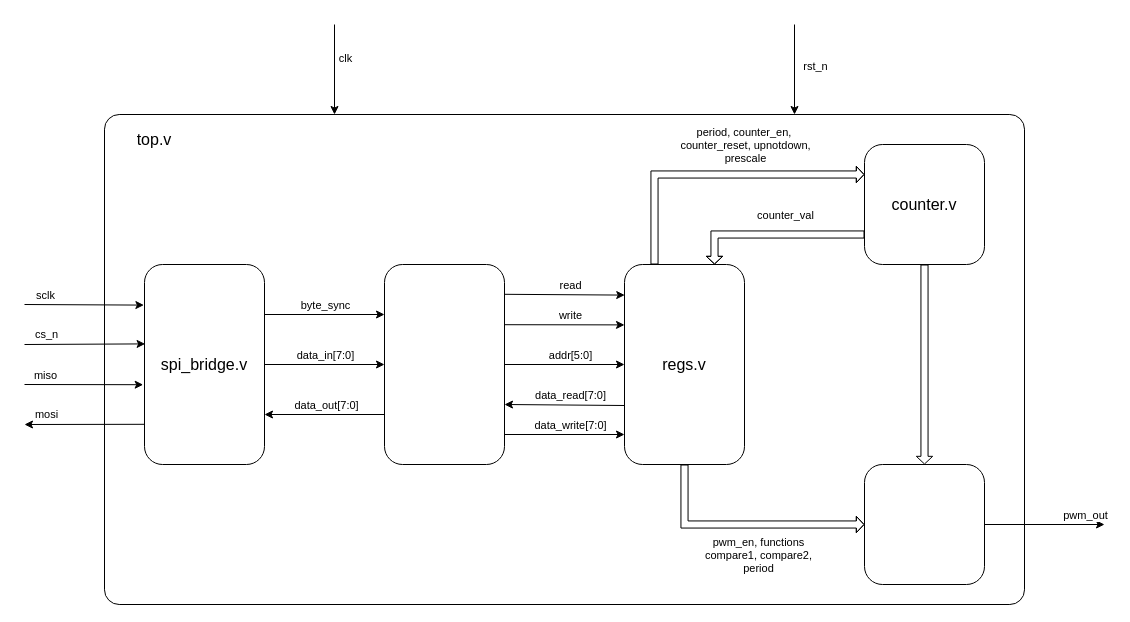
Image size: 1130x622. Some labels were removed from this diagram. The centre of each missing label's shape, as x and y in pixels:
instr_dcd.v: pixel 444 364
pwm_gen.v: pixel 924 524
